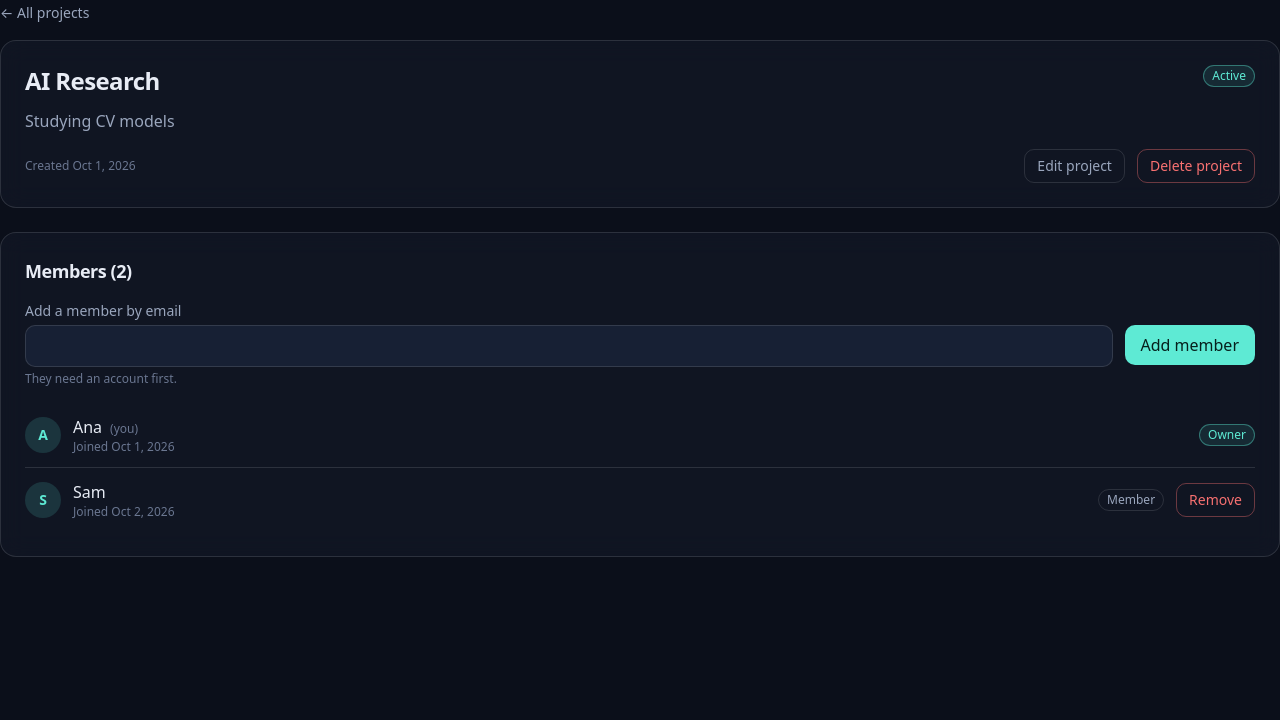
Test case: owner actions › edits the project and shows the saved values without refetching
The width and height of the screenshot is (1280, 720).
Check: the heading "AI Research" is shown, box [25,65,160,97]
Click the button "Edit project" at (1075, 166), box [1024,149,1125,183]
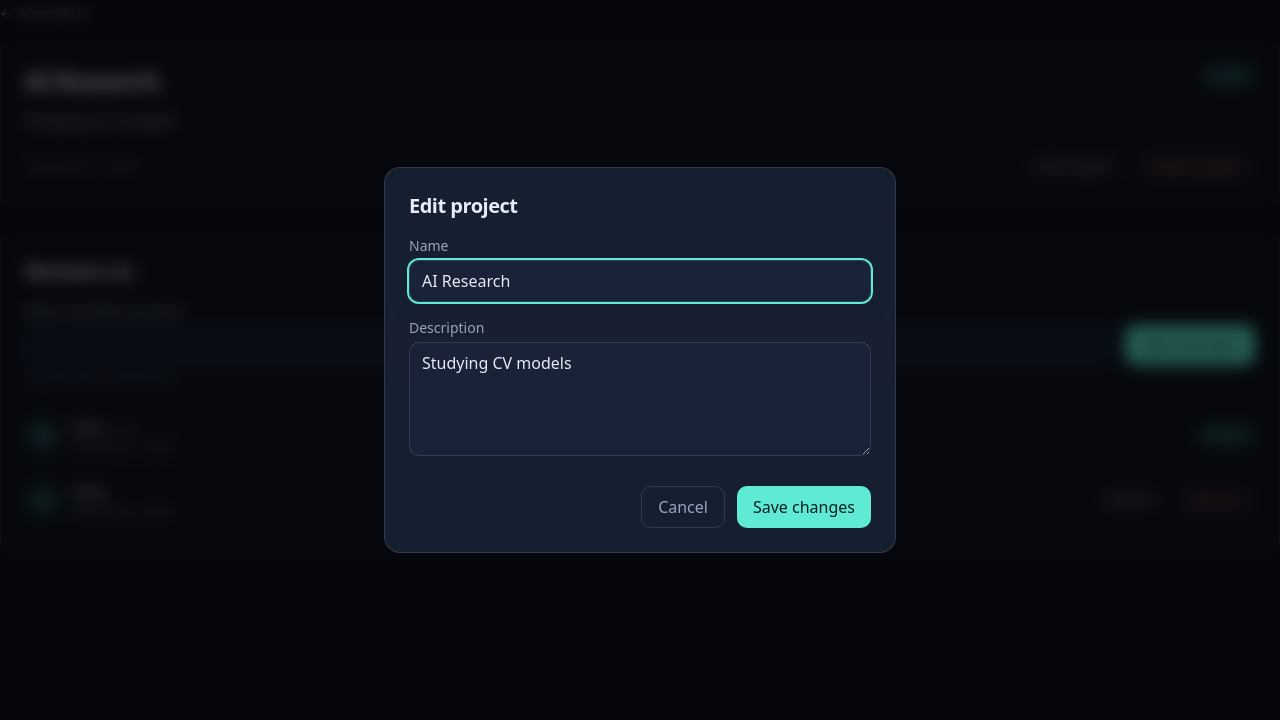
Check: the field labelled "Name" holds "AI Research"
Replace the text in the field labelled "Name" with "Vision Lab" at (640, 281), box [409,260,871,302]
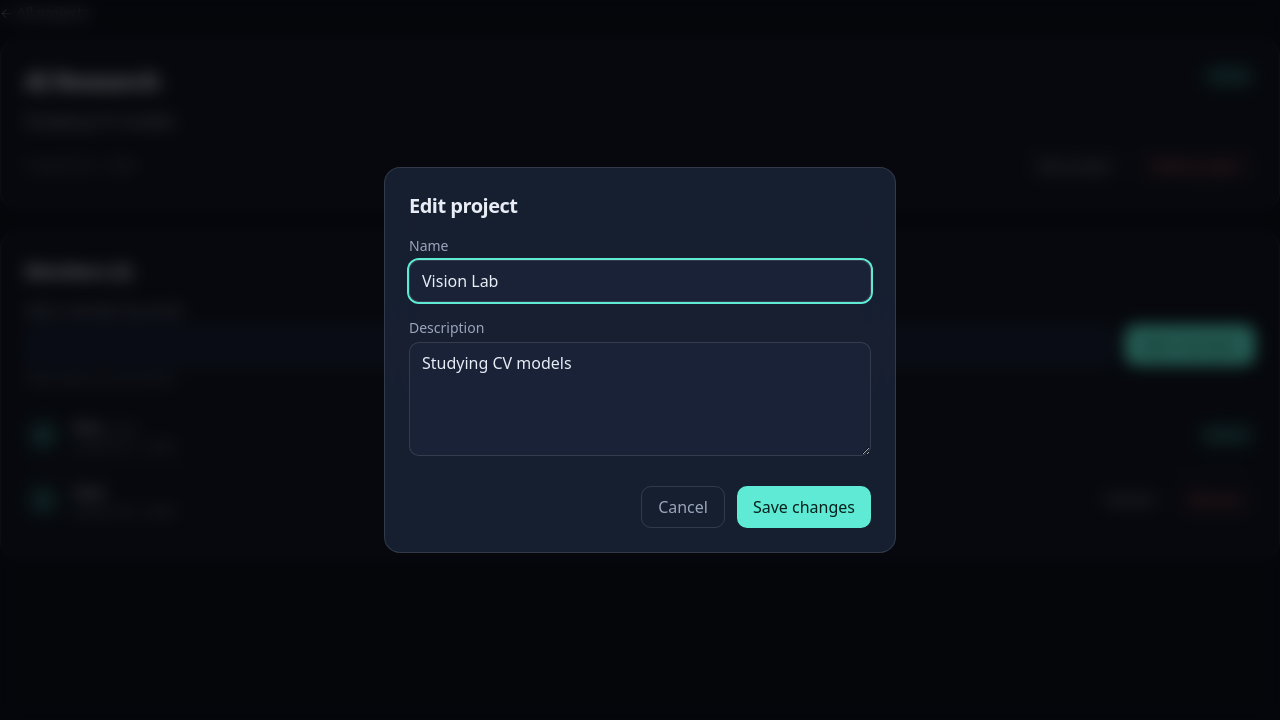
Replace the text in the text box labelled "Description" with "New focus" at (640, 399), box [409,342,871,456]
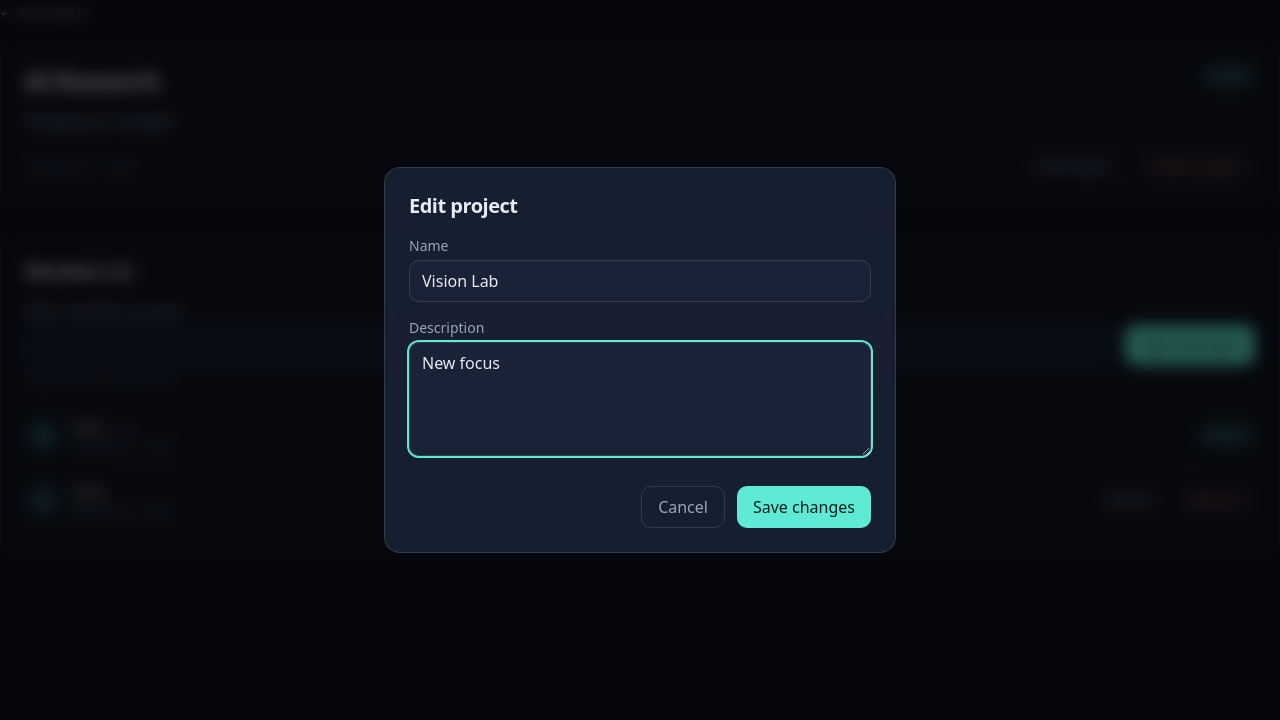
Click the button "Save changes" at (804, 507), box [737,486,871,528]
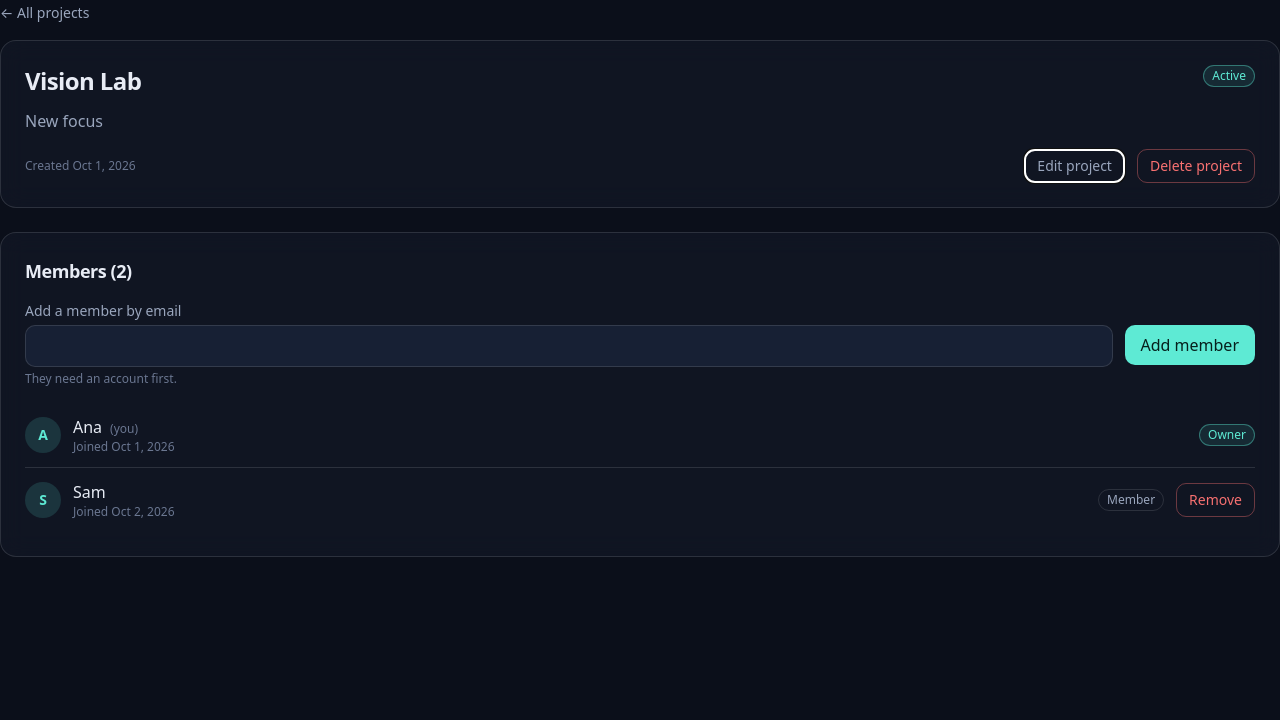
Check: the heading "Vision Lab" is shown, box [25,65,141,97]
